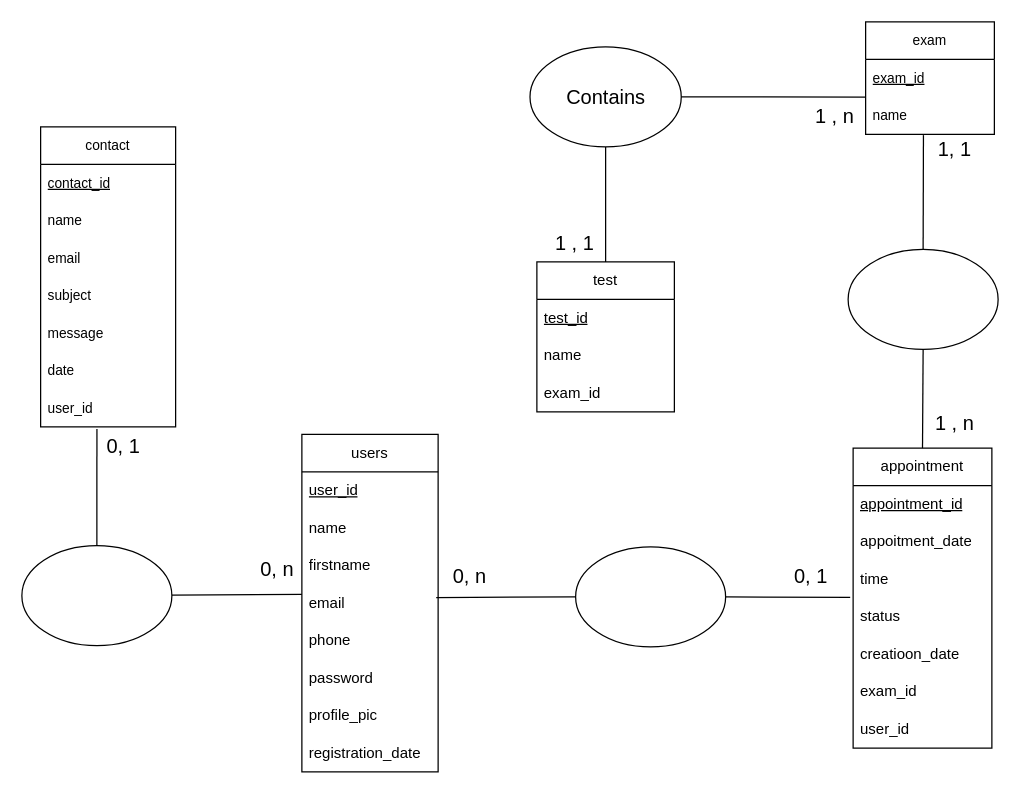
This 1020x794 diagram has some shape labels left out. The centre of each missing label's shape, as x and y in pixels:
Includes: [922,298]
Reserves: [650,596]
Send: [96,595]
